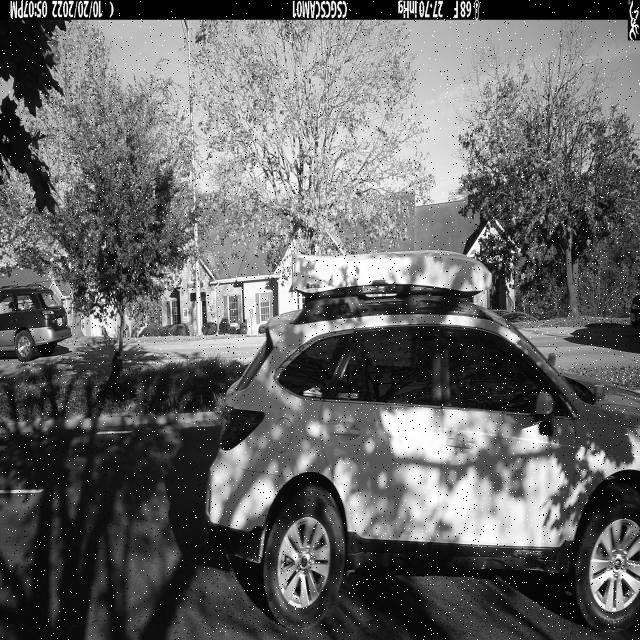SUV: (204, 251, 640, 635)
